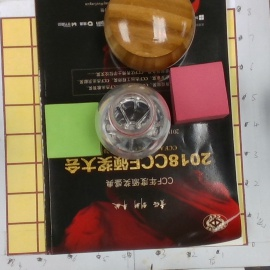bottle: (96, 83, 172, 160)
cup: (103, 1, 196, 69)
